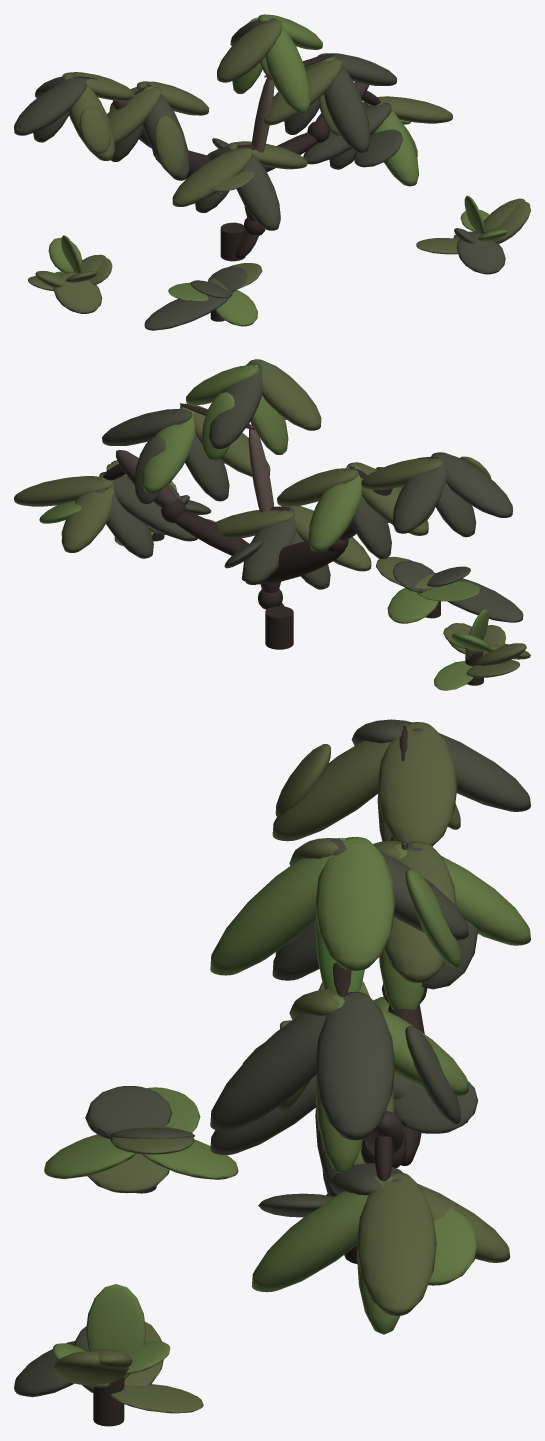
The model's file is CMU3DRMCBushb3.glb.
The picture shows the model from 3 angles, top to bottom: view 1: azimuth 30°, elevation 25°; view 2: azimuth 150°, elevation 25°; view 3: azimuth 270°, elevation 25°; orthographic projection. The views are drawn at different scales.
Parts seen in each view (by area): view 1: crown 3 frond 4, crown 2 frond 4, crown 5 frond 0, crown 0 frond 0, crown 2 frond 0, crown 5 frond 4, crown 3 frond 0, tuft 1 source leaf 0, crown 1 frond 0, crown 4 frond 4, crown 1 inner frond 0, tuft 2 source leaf 5 (+32 smaller); view 2: crown 1 frond 5, crown 0 frond 0, crown 2 frond 0, crown 0 frond 5, crown 2 frond 5, crown 3 frond 5, crown 4 frond 5, crown 5 frond 5, crown 4 frond 3, crown 3 frond 3, crown 4 frond 0, woody fork 1 section 0 (+34 smaller); view 3: crown 3 frond 3, crown 4 frond 3, crown 2 frond 3, crown 0 frond 3, crown 2 frond 4, crown 3 frond 4, crown 4 frond 4, crown 0 frond 4, crown 1 frond 3, crown 1 frond 5, crown 0 frond 5, tuft 2 source leaf 1 (+32 smaller).
Part boxes in pixels (x1,y1,x2,y2): crown 3 frond 4: (324,57,370,152); crown 2 frond 4: (265,17,310,113); crown 5 frond 0: (172,147,252,206); crown 0 frond 0: (14,77,86,135); crown 2 frond 0: (217,19,281,82); crown 5 frond 4: (236,145,280,230); crown 3 frond 0: (264,58,342,125); tuft 1 source leaf 0: (144,291,232,330); crown 1 frond 0: (107,86,161,144); crown 4 frond 4: (371,110,418,186); crown 1 inner frond 0: (154,115,185,175); tuft 2 source leaf 5: (456,232,505,274); crown 1 frond 5: (308,465,362,552); crown 0 frond 0: (431,452,512,517); crown 2 frond 0: (248,359,321,430); crown 0 frond 5: (392,455,446,533); crown 2 frond 5: (209,362,262,448); crown 3 frond 5: (141,407,195,493); crown 4 frond 5: (61,476,114,552); crown 5 frond 5: (242,507,296,584); crown 4 frond 3: (14,476,113,506); crown 3 frond 3: (102,409,192,445); crown 4 frond 0: (99,471,197,541); woody fork 1 section 0: (242,540,345,584); crown 3 frond 3: (315,991,395,1140); crown 4 frond 3: (357,1172,436,1315); crown 2 frond 3: (315,837,395,970); crown 0 frond 3: (377,722,457,846); crown 2 frond 4: (210,840,352,975); crown 3 frond 4: (210,995,351,1131); crown 4 frond 4: (251,1177,393,1292); crown 0 frond 4: (272,725,414,841); crown 1 frond 3: (384,841,456,982); crown 1 frond 5: (394,843,530,945); crown 0 frond 5: (394,723,530,811); tuft 2 source leaf 1: (85,1284,145,1378).
Size of the model in its own units: 0.9174 by 0.4709 by 0.4982.
